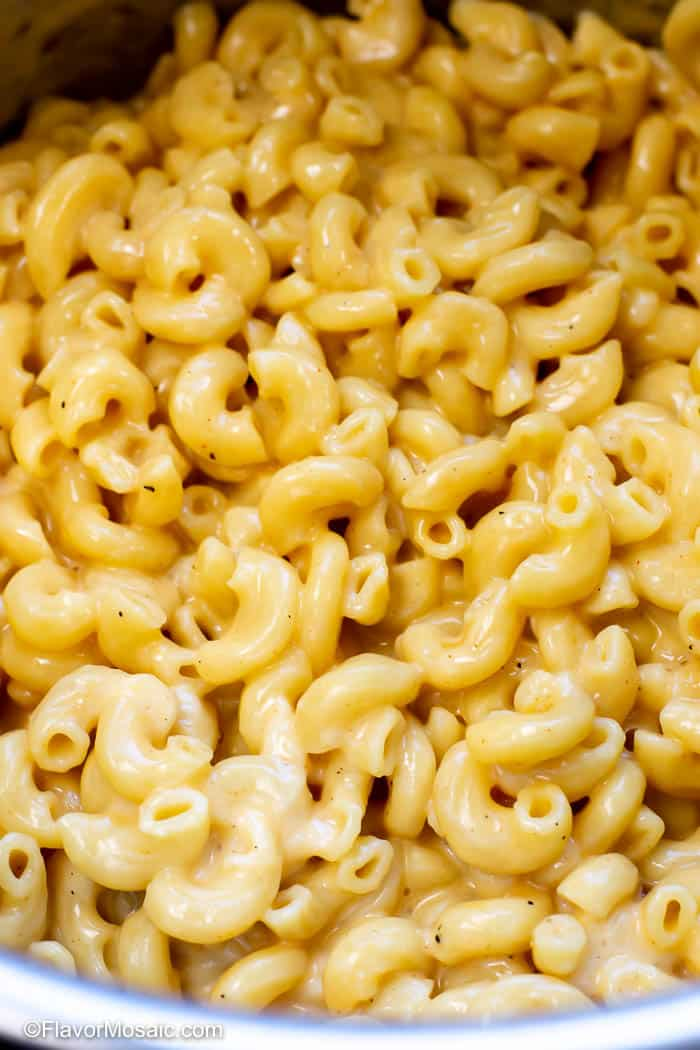cheese: (97, 595, 328, 846), (251, 252, 484, 491), (45, 126, 229, 388)
